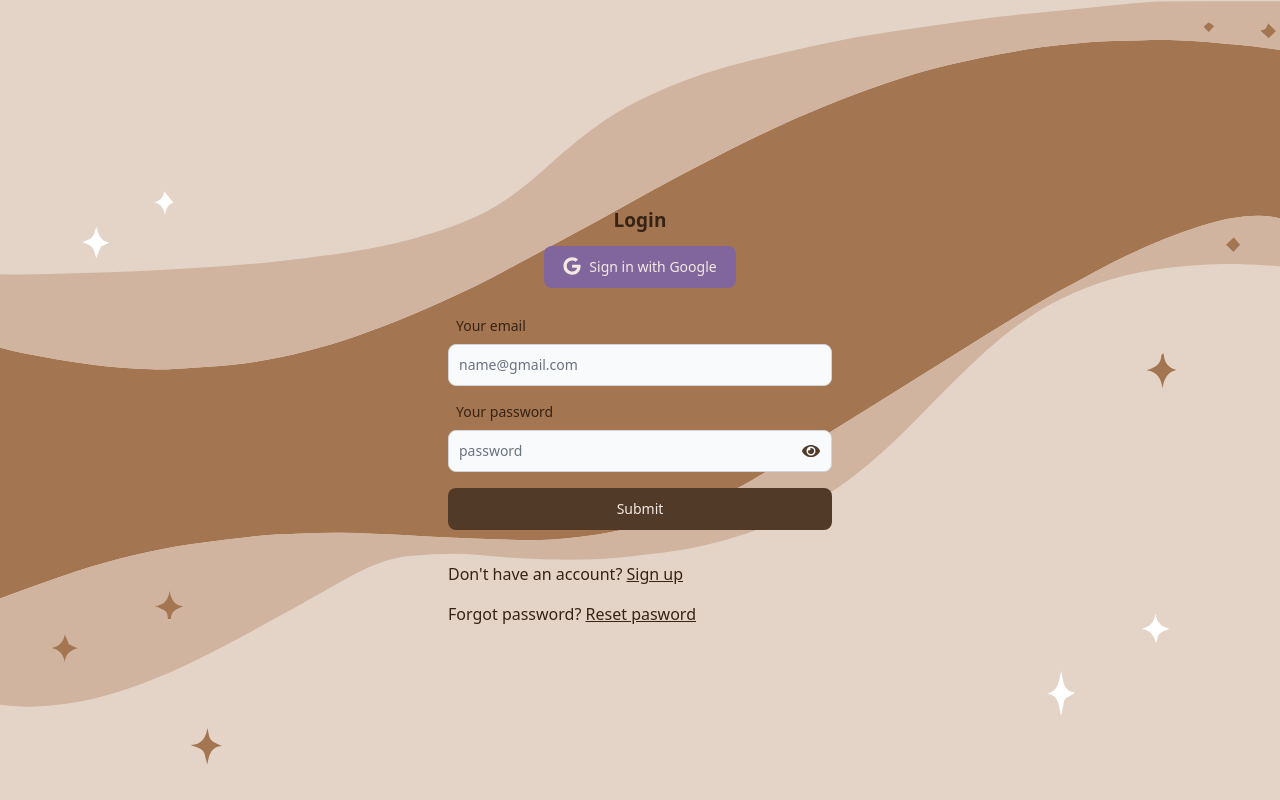
Test: LoginPage, Google and email sign-in › shows an error alert when googleSignIn rejects
Click the button "Sign in with Google": (640,267) top-left (544, 246), bottom-right (736, 288)
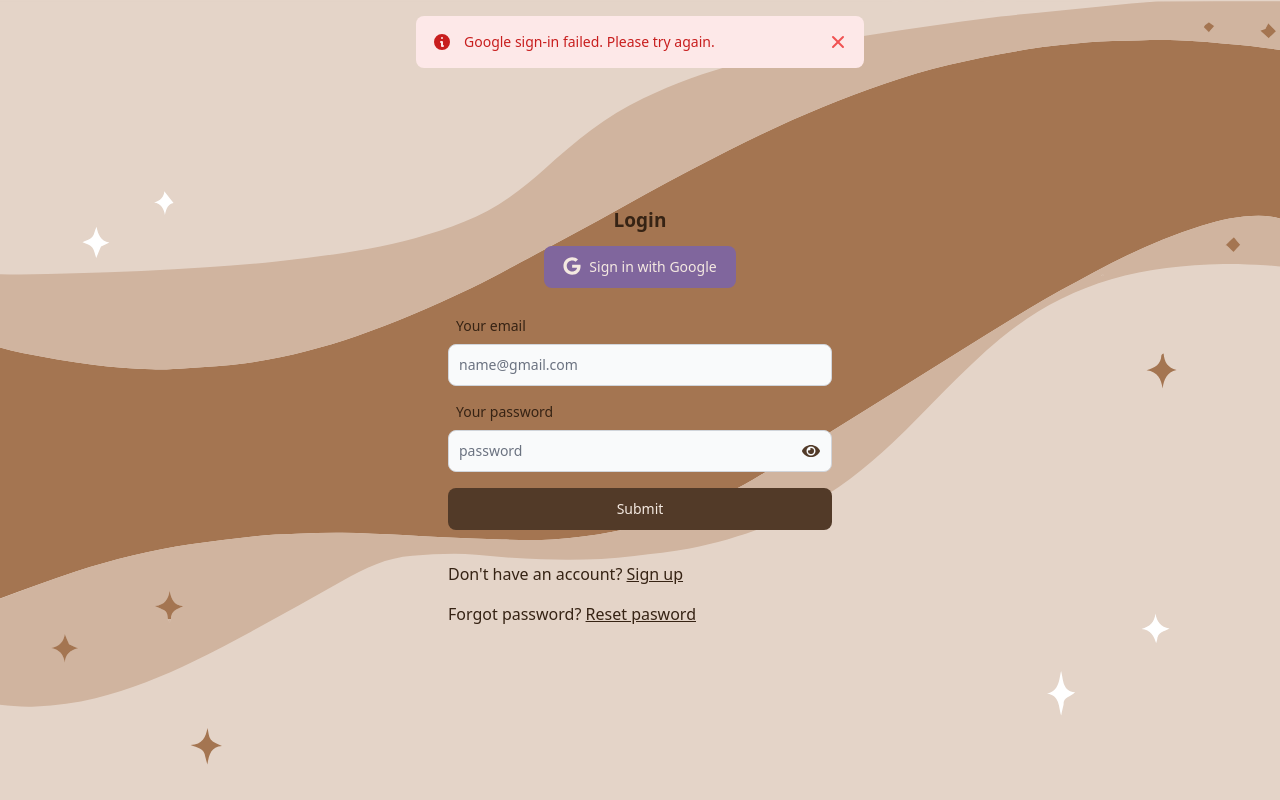
Now the message reads "Google sign-in failed. Please try again.", box top-left (464, 32), bottom-right (715, 51)
